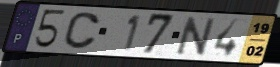1: (123, 13, 142, 53)
4: (211, 18, 240, 59)
5: (33, 8, 68, 50)
7: (141, 11, 176, 57)
C: (61, 11, 102, 51)
N: (174, 15, 218, 57)
